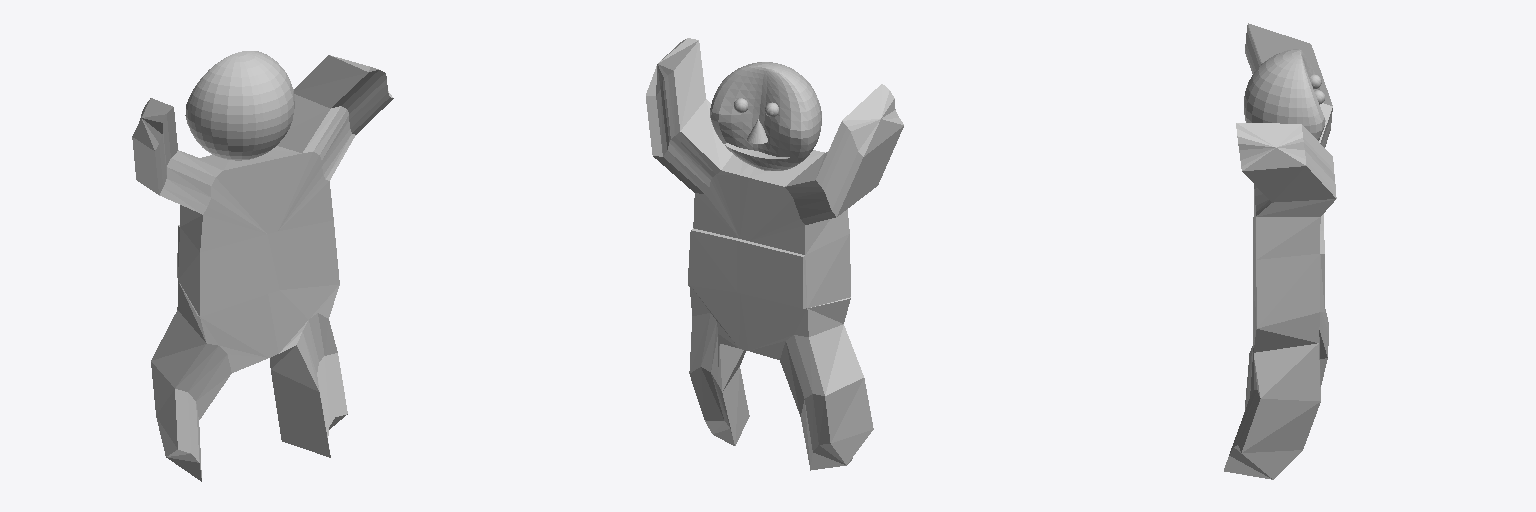
Rendered from manjump_000030.obj.
3 renders of one model, left to right at view 1: azimuth 30°, elevation 25°; view 2: azimuth 150°, elevation 25°; view 3: azimuth 270°, elevation 25°, orthographic.
Visible parts, largest first — view 1: Cube; view 2: Cube; view 3: Cube.
Part boxes in pixels (bbox=[...]): Cube: bbox=[132, 51, 393, 481]; Cube: bbox=[646, 38, 903, 470]; Cube: bbox=[1224, 23, 1336, 479].
Bounding box in the file's own units: 79.55 × 127 × 32.87.